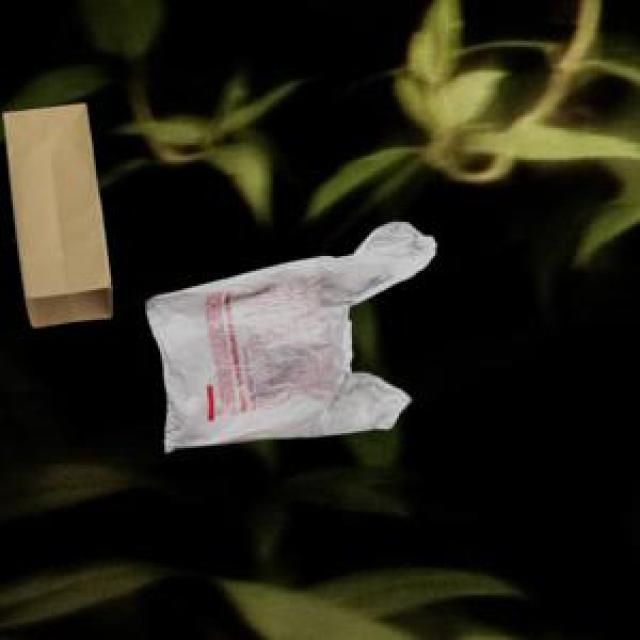paper: (0, 100, 109, 322)
